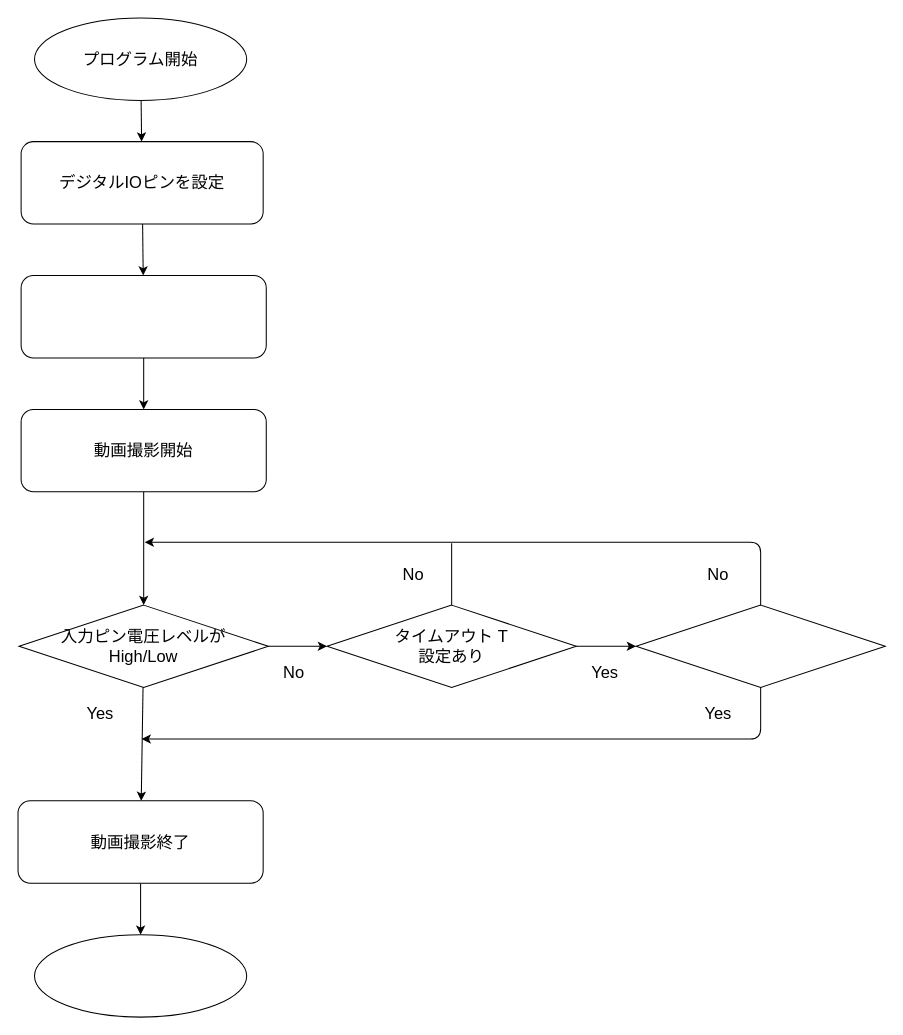
Image size: 903x1035. Some labels were removed from this diagram. Each missing label, with the centre of its shape:
"プログラム終了" belongs at pixel 140 975.
"入力ピン電圧レベルが Low/High になるまで待機" belongs at pixel 143 316.
"経過時間 t t >= T" belongs at pixel 760 646.
